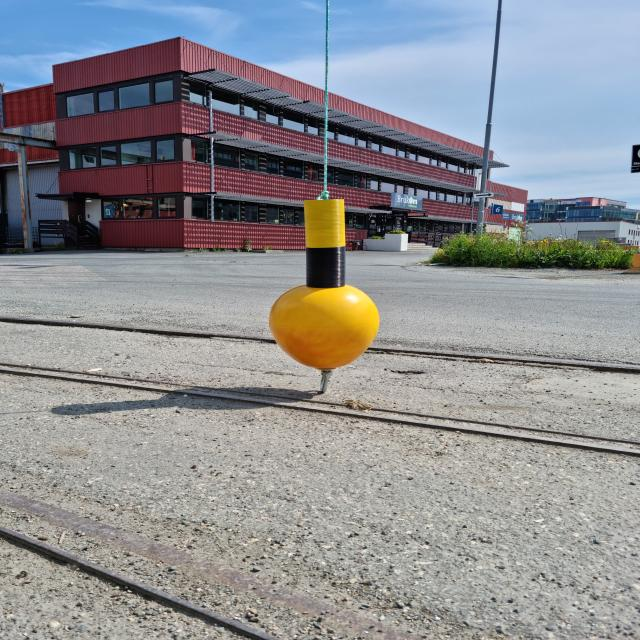west: (270, 200, 378, 369)
